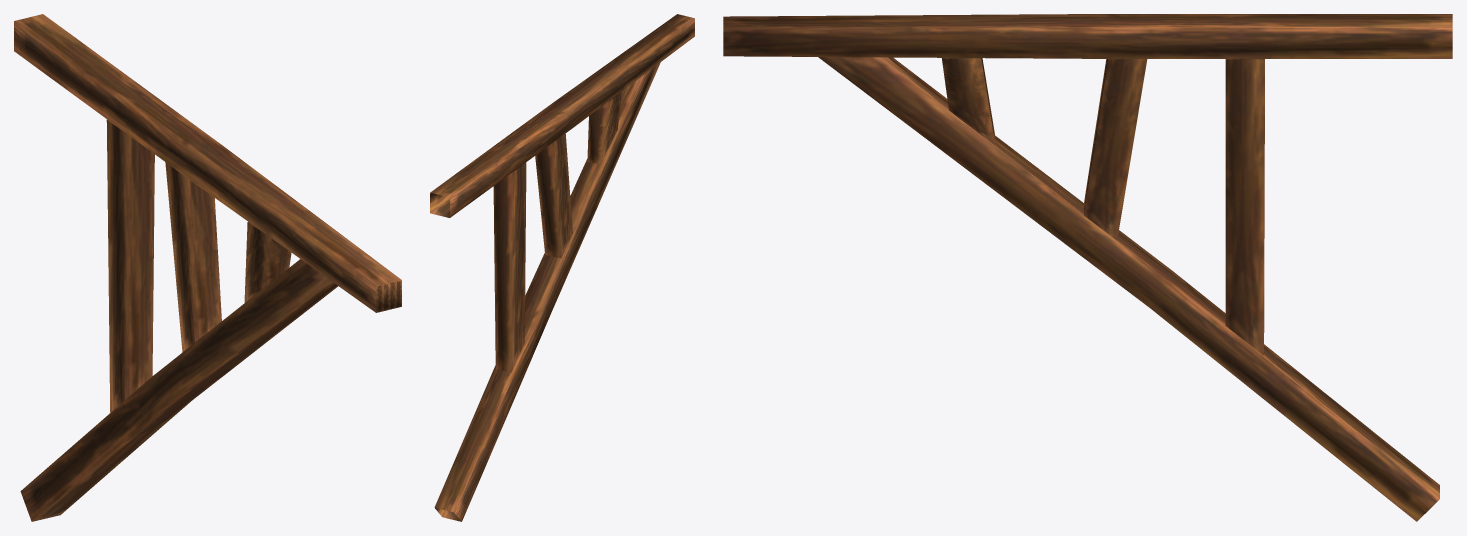
The model's file is INST_SWORDLIGHT_TRACKBRACKD.fbx.
The picture shows the model from 3 angles, left to right: view 1: azimuth 30°, elevation 25°; view 2: azimuth 150°, elevation 25°; view 3: azimuth 270°, elevation 25°; orthographic projection. The views are drawn at different scales.
Parts seen in each view (by area): view 1: INST_SWORDLIGHT_TRACKBRACKD; view 2: INST_SWORDLIGHT_TRACKBRACKD; view 3: INST_SWORDLIGHT_TRACKBRACKD.
Boxes of the visible parts, x1,y1,x2,y2 form: INST_SWORDLIGHT_TRACKBRACKD: (14,14,401,521); INST_SWORDLIGHT_TRACKBRACKD: (430,14,694,521); INST_SWORDLIGHT_TRACKBRACKD: (723,14,1452,521).
Bounding box in the file's own units: 4596 × 73827 × 98791.
1 material, 1 textured.
